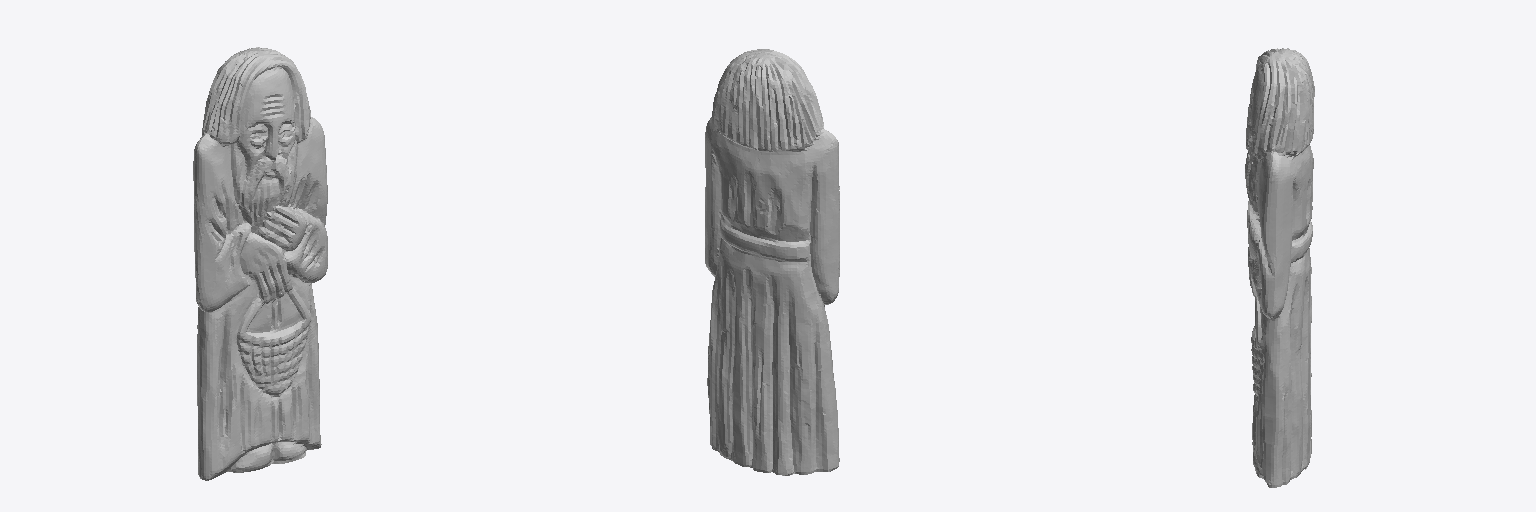
The model's file is Hojda12.obj.
The picture shows the model from 3 angles: view 1: azimuth 30°, elevation 25°; view 2: azimuth 150°, elevation 25°; view 3: azimuth 270°, elevation 25°; orthographic projection.
Parts seen in each view (by area): view 1: Hojda12_lowpoly; view 2: Hojda12_lowpoly; view 3: Hojda12_lowpoly.
Part boxes in pixels (left/top/right/bottom): Hojda12_lowpoly: left=193, top=47, right=327, bottom=480; Hojda12_lowpoly: left=705, top=49, right=839, bottom=475; Hojda12_lowpoly: left=1245, top=48, right=1314, bottom=487.
Size of the model in its own units: 0.1001 by 0.2967 by 0.0461.